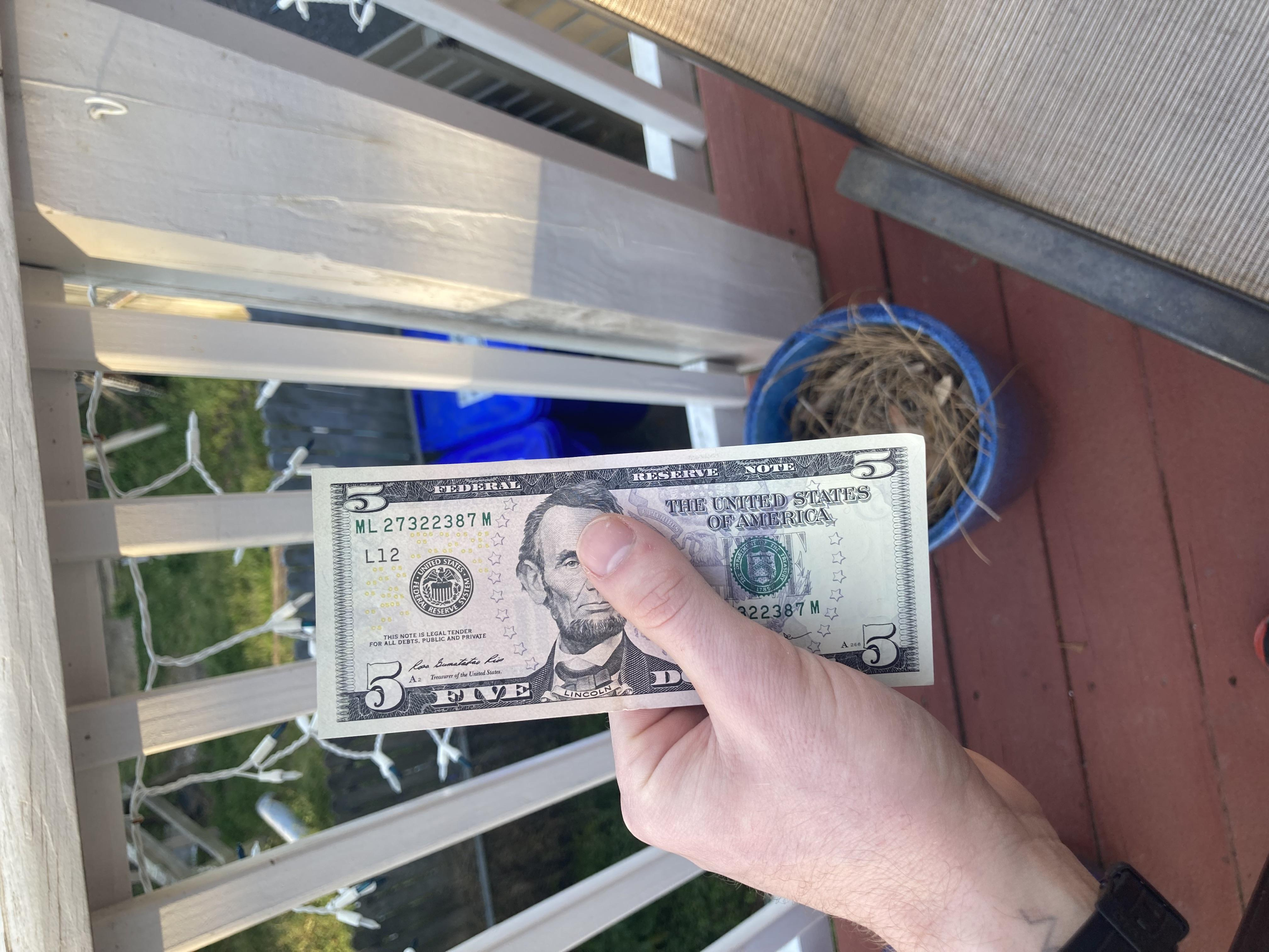five-front: (286, 234, 695, 703)
